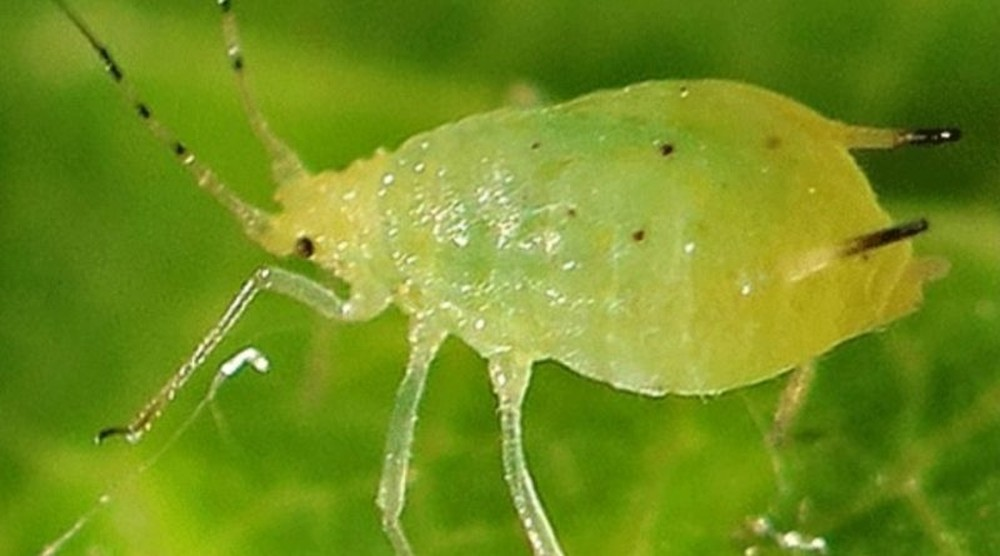Pulgon: (90, 12, 969, 532)
